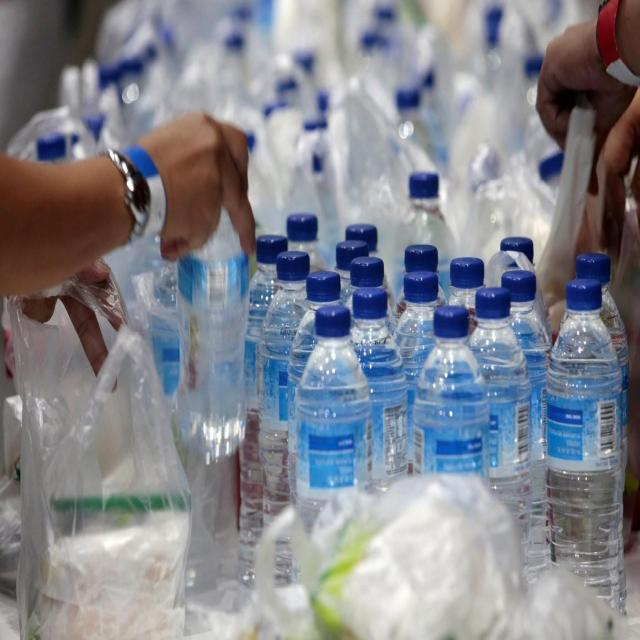bottle: (542, 267, 628, 613), (235, 228, 290, 574), (412, 306, 492, 481), (472, 284, 524, 548), (297, 304, 369, 494), (349, 287, 409, 483), (498, 267, 552, 428), (390, 268, 442, 358), (572, 254, 616, 288)
